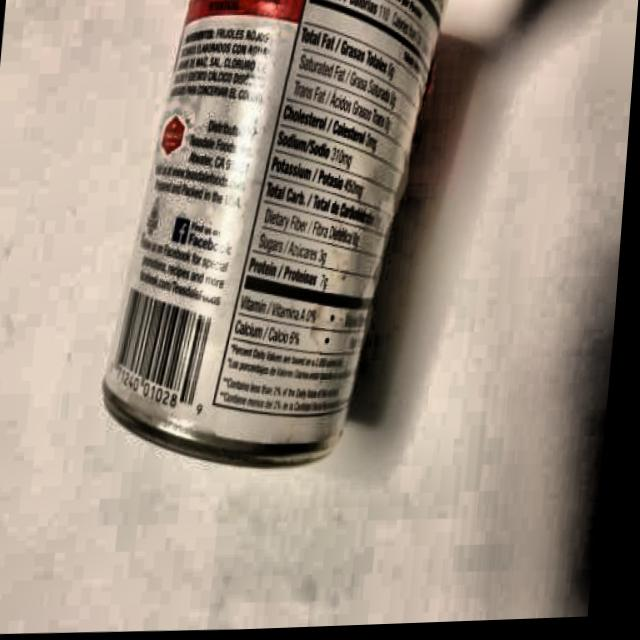Cans: (95, 0, 457, 500)
